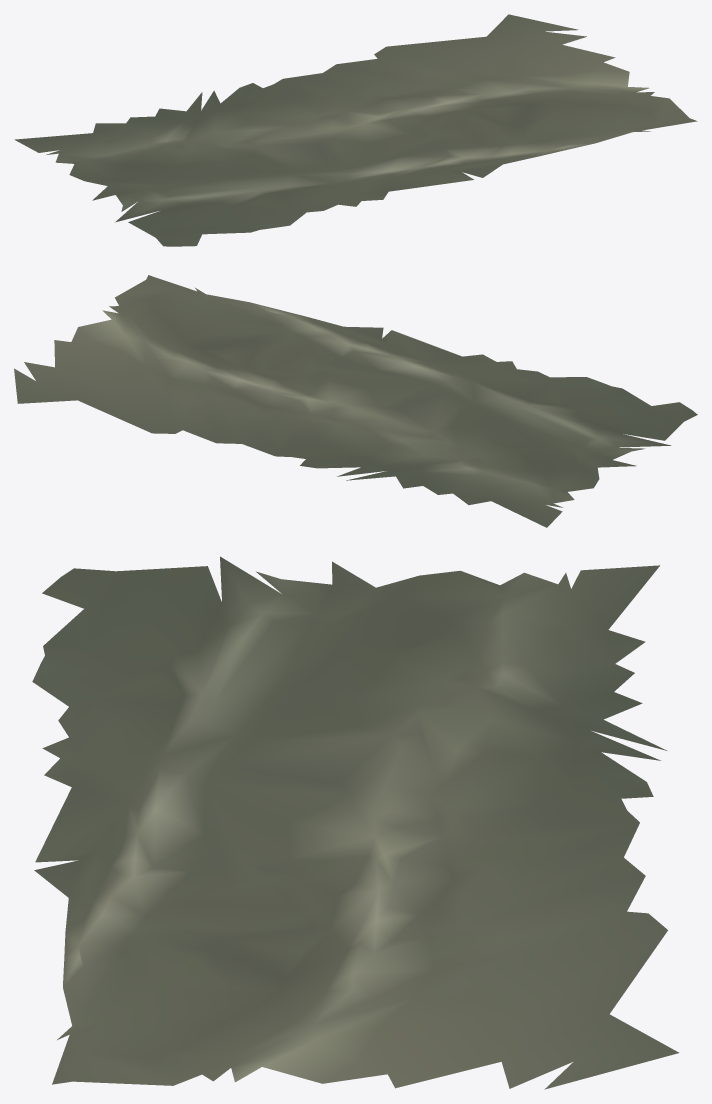
Rendered from faraway_sand.glb.
3 renders of one model, top to bottom at view 1: azimuth 30°, elevation 25°; view 2: azimuth 150°, elevation 25°; view 3: azimuth 270°, elevation 25°, orthographic. The views are drawn at different scales.
Parts seen in each view (by area): view 1: faraway Lux sand; view 2: faraway Lux sand; view 3: faraway Lux sand.
Boxes of the visible parts, x1,y1,x2,y2 form: faraway Lux sand: [14, 14, 697, 246]; faraway Lux sand: [14, 275, 697, 527]; faraway Lux sand: [32, 556, 678, 1089].
Bounding box in the file's own units: 1175 × 1.02 × 603.
